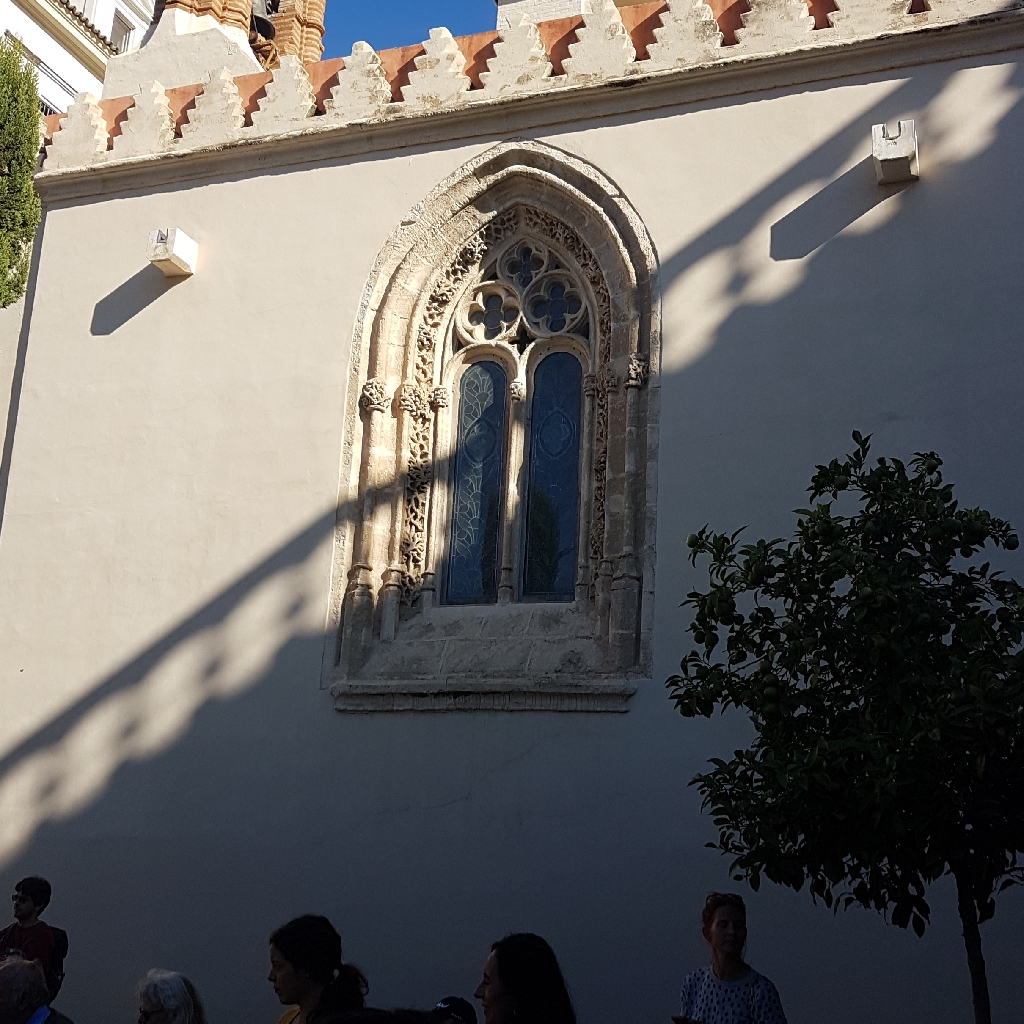arco-apuntado: (399, 179, 614, 368)
